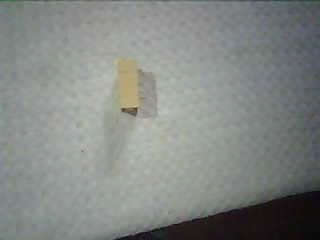lego: (115, 56, 139, 114)
